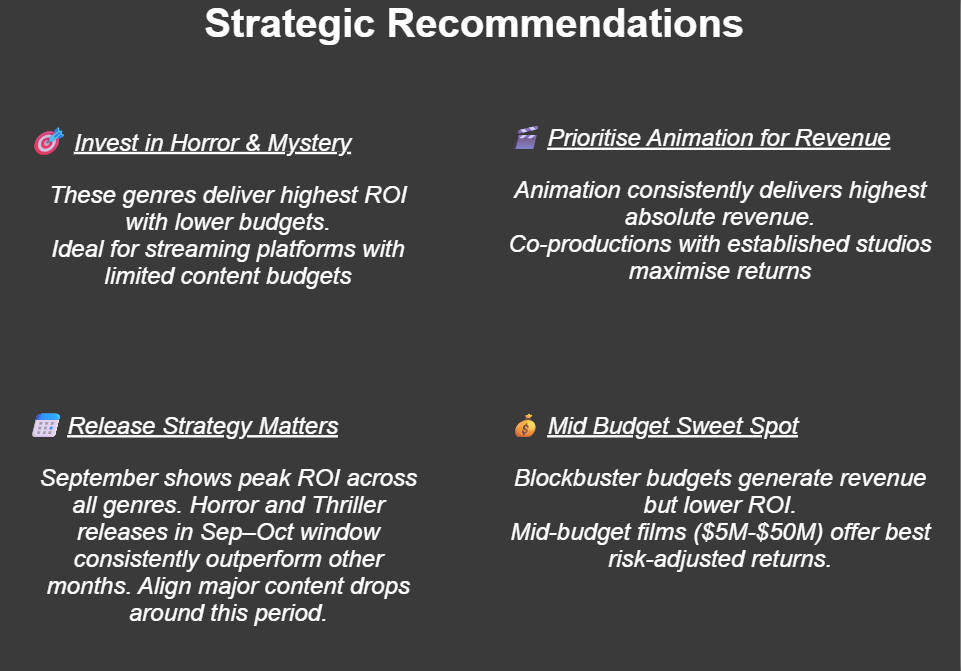

The dashboard page shown, as its layout file describes it:
{"tool":"powerbi","page":{"name":"Strategic Recommendations","canvas":[1280,900],"ordinal":3},"visuals":[{"type":"textbox","box":[32,0,1216,96],"z":0},{"type":"textbox","box":[32,160,544,288],"z":1000},{"type":"textbox","box":[31.7,543.3,545,318.3],"z":2000},{"type":"textbox","box":[672,160,576,288],"z":3000},{"type":"textbox","box":[671.7,543.3,576.7,318.3],"z":4000}]}

Visuals, with their boxes in screenshot pixels (x1, y1, x2, y2), scaled from the page's 1280x900 canvas onto the 961x671 screenshot:
textbox: Rect(24, 0, 937, 72)
textbox: Rect(24, 119, 432, 334)
textbox: Rect(24, 405, 433, 642)
textbox: Rect(505, 119, 937, 334)
textbox: Rect(504, 405, 937, 642)
